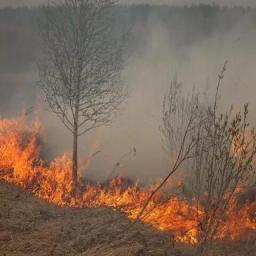Heavy smoke: (43, 5, 255, 173)
Large fire: (0, 110, 255, 250)
